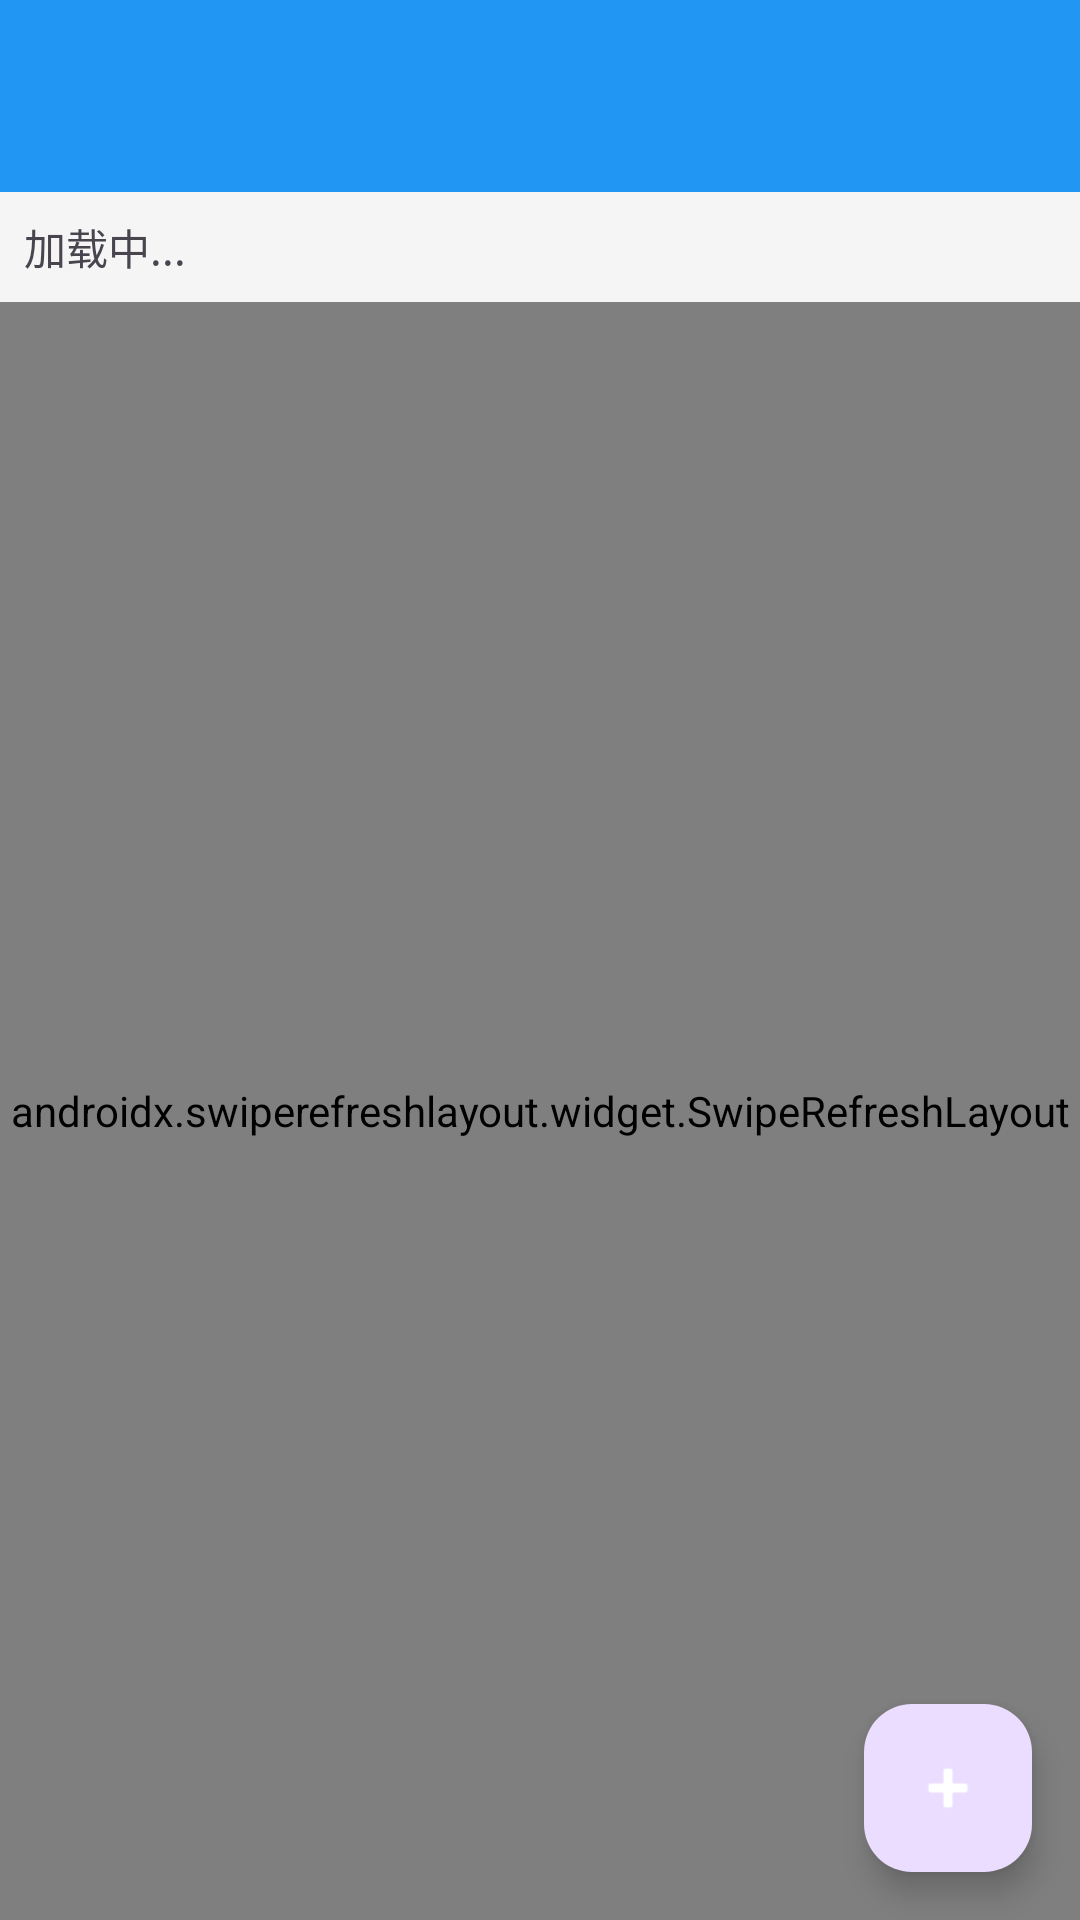

Named icons in this screenshot (1080×1920) and their bounding boxes, (x1, y1, x2, y2):
添加服务器: (864, 1704, 1032, 1872)
